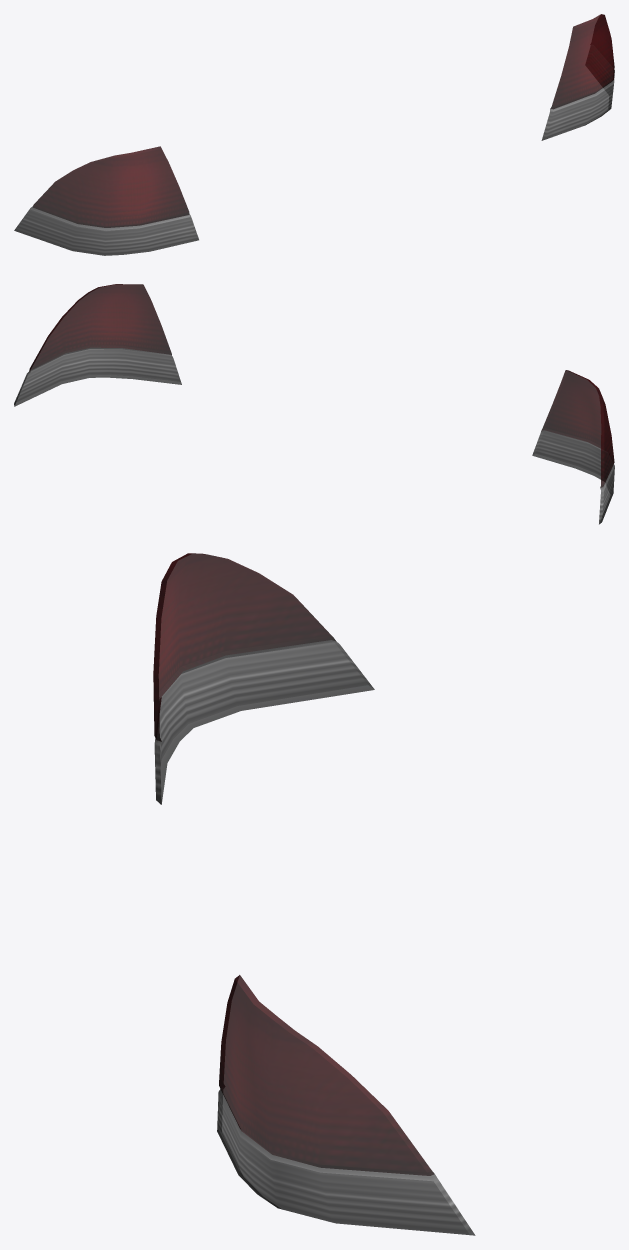
The model's file is tozzo98_rearlights_glass_ucb_lights_and_glass_transperent_0.006.glb.
3 renders of one model, top to bottom at view 1: azimuth 30°, elevation 25°; view 2: azimuth 150°, elevation 25°; view 3: azimuth 270°, elevation 25°, orthographic. The views are drawn at different scales.
Visible parts, largest first — view 1: tozzo98_rearlights_glass_ucb_lights_and_glass_transperent_0.; view 2: tozzo98_rearlights_glass_ucb_lights_and_glass_transperent_0.; view 3: tozzo98_rearlights_glass_ucb_lights_and_glass_transperent_0..
Part boxes in pixels (box(x1,y1,x2,y2)): tozzo98_rearlights_glass_ucb_lights_and_glass_transperent_0.: box(14, 14, 614, 255); tozzo98_rearlights_glass_ucb_lights_and_glass_transperent_0.: box(14, 284, 614, 524); tozzo98_rearlights_glass_ucb_lights_and_glass_transperent_0.: box(153, 553, 475, 1235).
Size of the model in its own units: 1.53 by 0.25 by 0.3794.
1 material, 1 textured.
